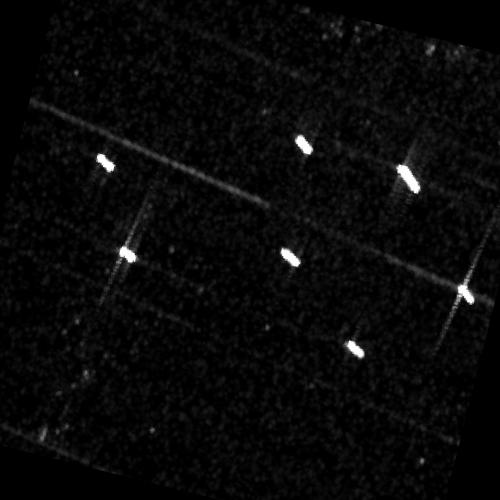ship: (396, 163, 421, 196), (456, 282, 475, 306), (345, 339, 365, 360), (294, 134, 313, 156), (95, 152, 115, 172), (280, 249, 301, 268), (119, 246, 136, 267)
